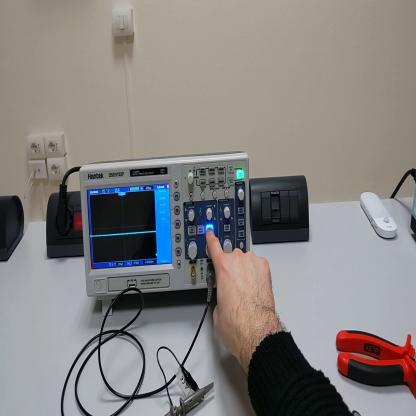hand: (206, 226, 282, 358)
oscilloscope: (81, 151, 251, 316)
oscilloscope probe tip: (166, 379, 214, 414)
pliers: (335, 326, 416, 400)
socket: (46, 192, 85, 260), (2, 196, 25, 267)
